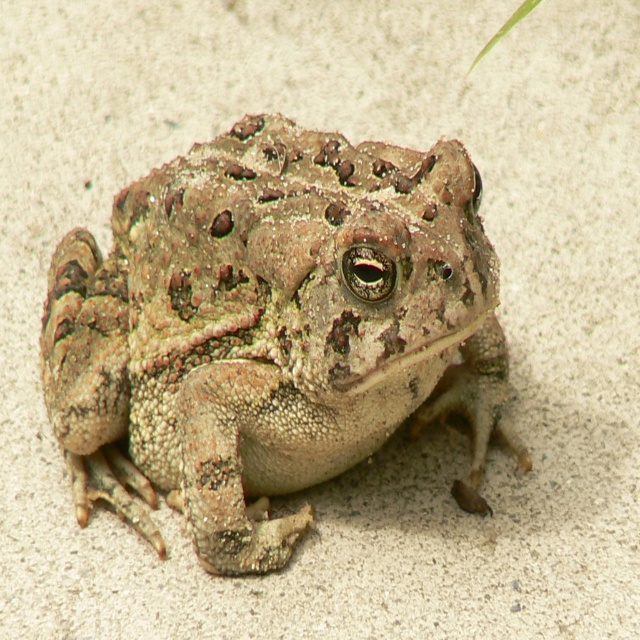Frog: (36, 109, 534, 577)
